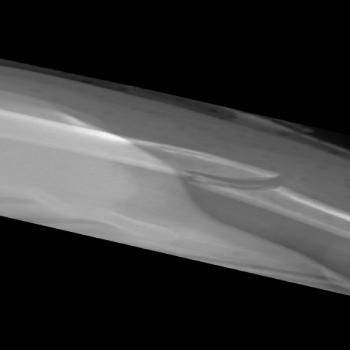Fracture: (165, 163, 295, 199)
